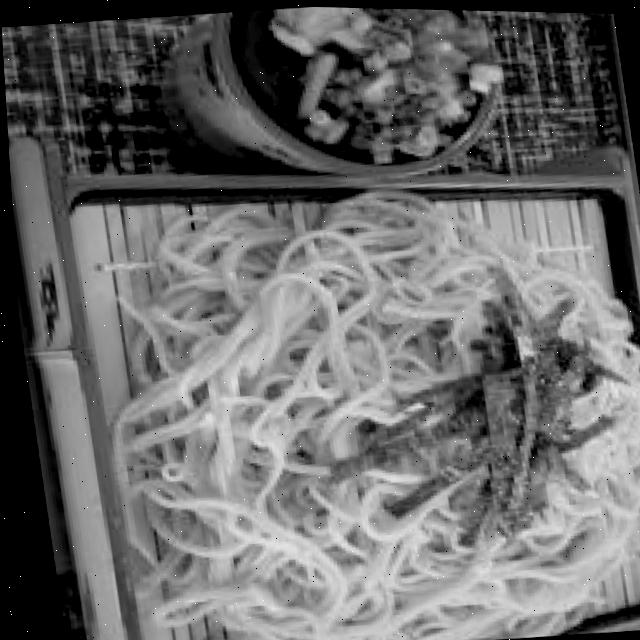面条主食: (5, 104, 640, 640)
